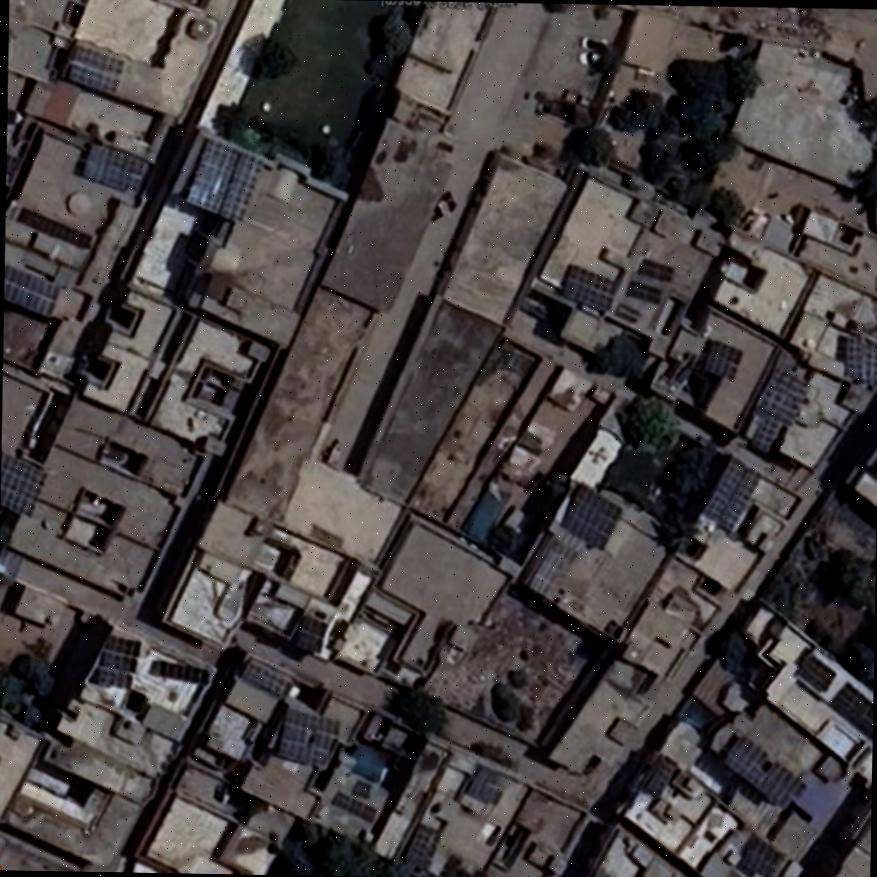Solarpanel: (185, 139, 260, 218), (723, 736, 805, 807), (699, 459, 758, 531), (562, 482, 622, 549), (276, 708, 338, 765), (64, 43, 124, 94), (83, 144, 149, 190), (2, 262, 59, 315), (757, 365, 809, 422), (0, 450, 45, 515), (828, 679, 871, 740), (94, 637, 139, 690), (742, 832, 784, 877), (565, 265, 611, 306), (701, 340, 740, 379), (847, 334, 877, 384), (154, 663, 207, 685), (753, 413, 782, 453), (295, 616, 325, 652)
